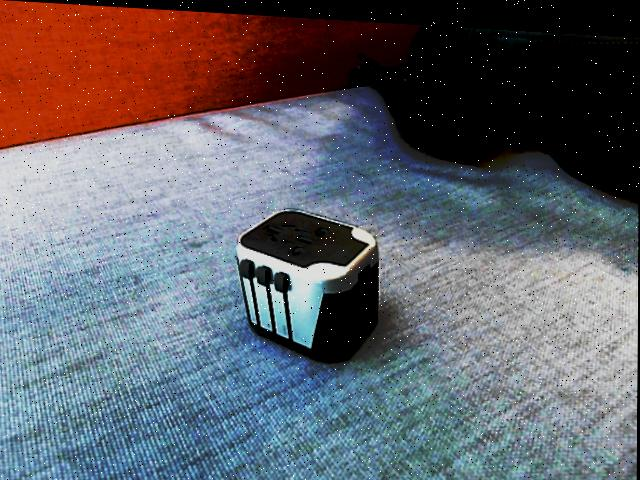adapter: (235, 202, 380, 361)
